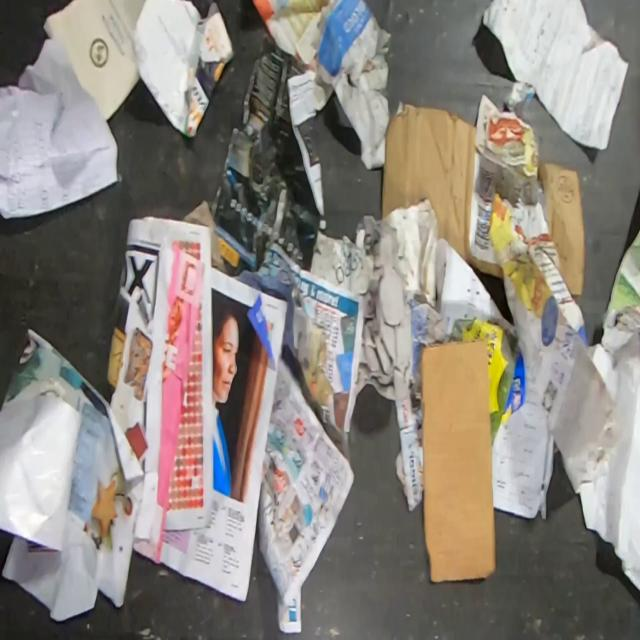cardboard: (380, 99, 586, 296), (418, 337, 496, 582)
